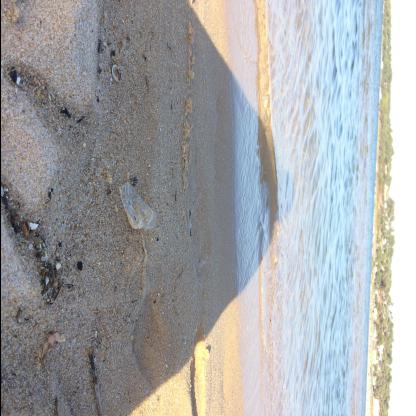plastik: (119, 180, 155, 230)
